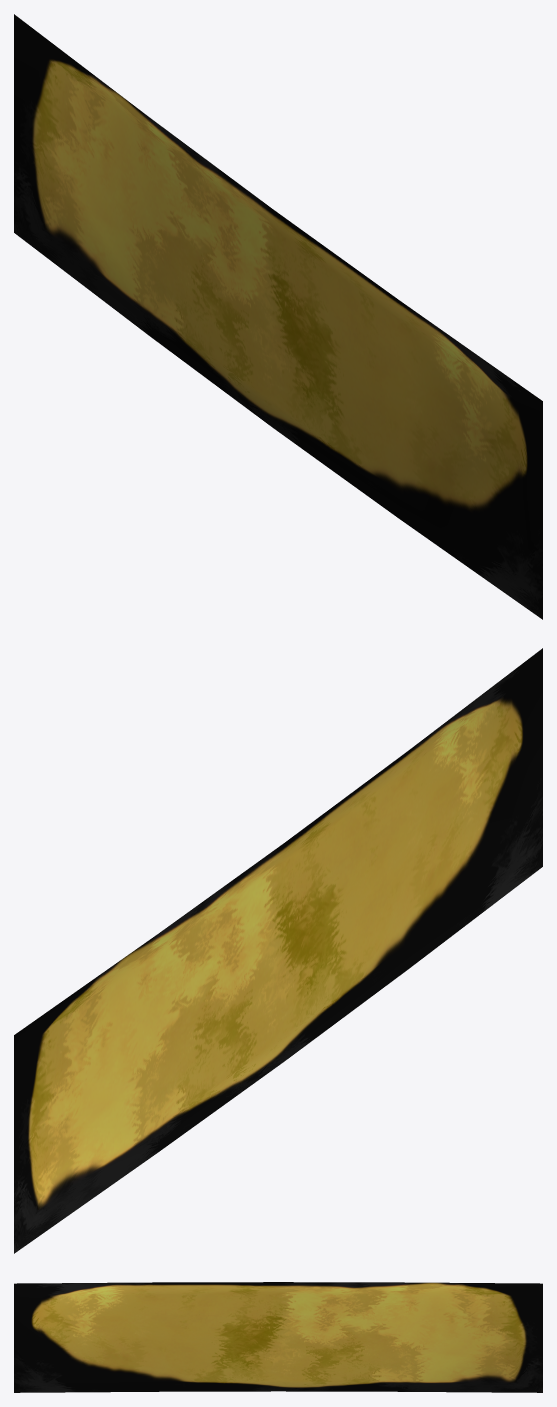
Rendered from Cloud03_Art.fbx.
3 renders of one model, top to bottom at view 1: azimuth 30°, elevation 25°; view 2: azimuth 150°, elevation 25°; view 3: azimuth 270°, elevation 25°, orthographic. The views are drawn at different scales.
Parts seen in each view (by area): view 1: Cloud03_Art; view 2: Cloud03_Art; view 3: Cloud03_Art.
Boxes of the visible parts, x1,y1,x2,y2 form: Cloud03_Art: (14, 14, 542, 619); Cloud03_Art: (14, 648, 542, 1253); Cloud03_Art: (14, 1282, 542, 1392).
Bounding box in the file's own units: 0.0565 × 1.27 × 5.55.
